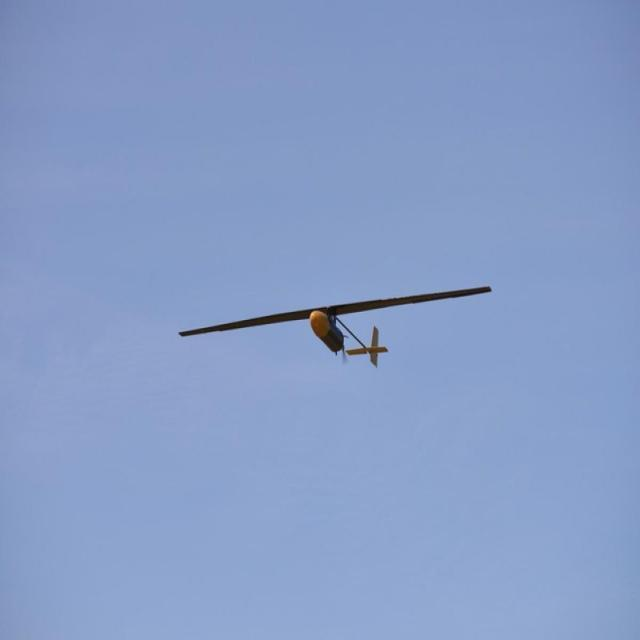iha: (174, 311, 497, 339)
